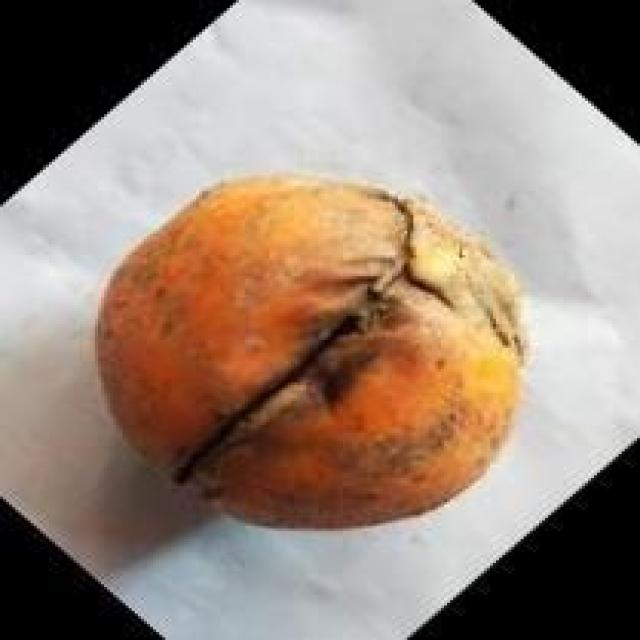damaged: (98, 175, 524, 526)
